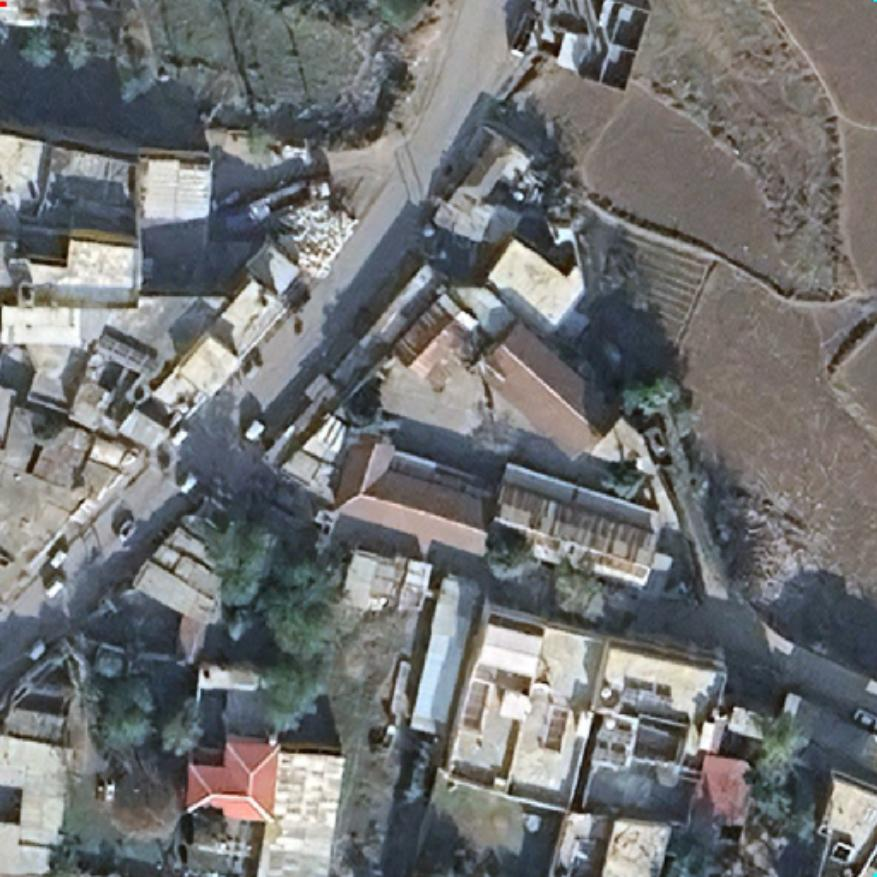Solarpanel: (97, 327, 160, 376), (622, 684, 675, 712)
